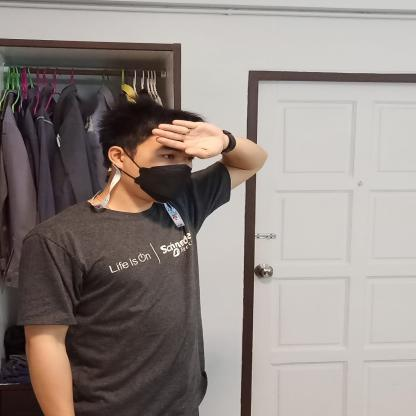Sick: (125, 110, 276, 219)
